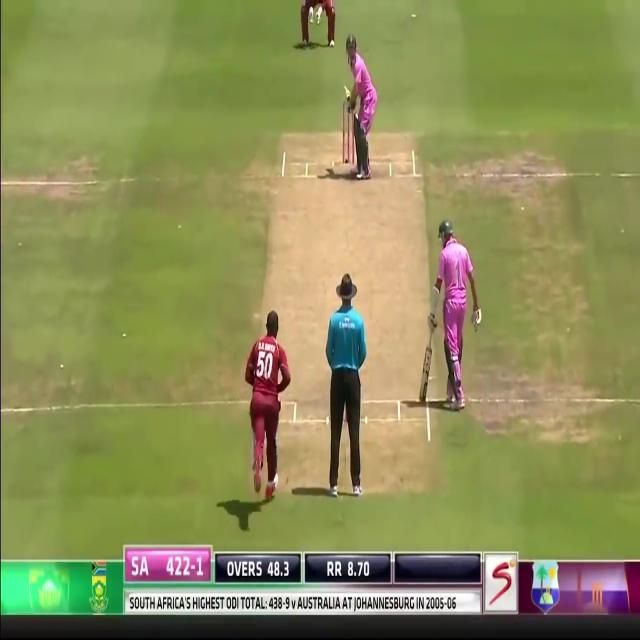Ball: (435, 218, 478, 408), (344, 36, 378, 181)
Fielder: (244, 312, 291, 502), (299, 0, 337, 48)
Umpire: (326, 274, 367, 499)
